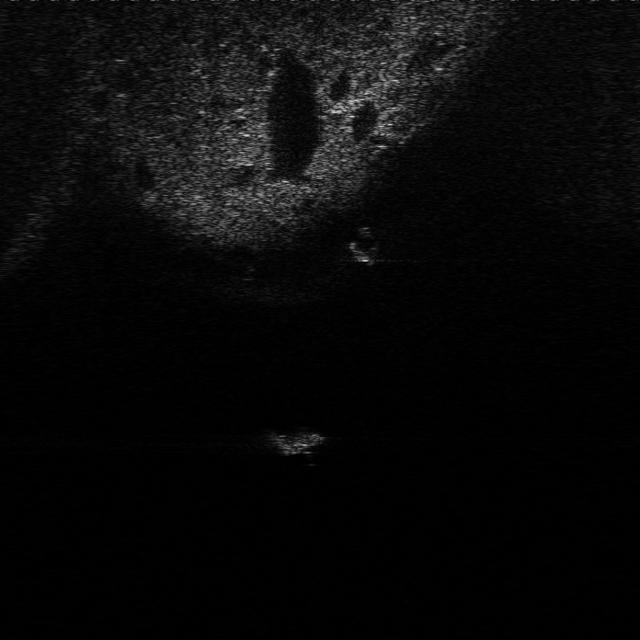ball: (337, 230, 388, 265)
cube: (264, 422, 334, 466)
